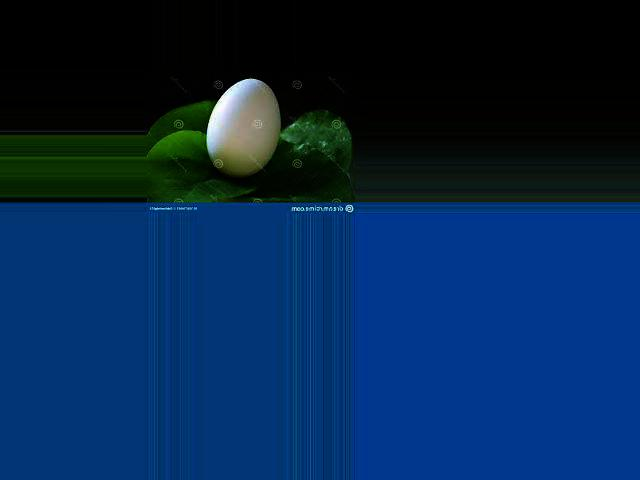egg: (205, 78, 280, 178)
